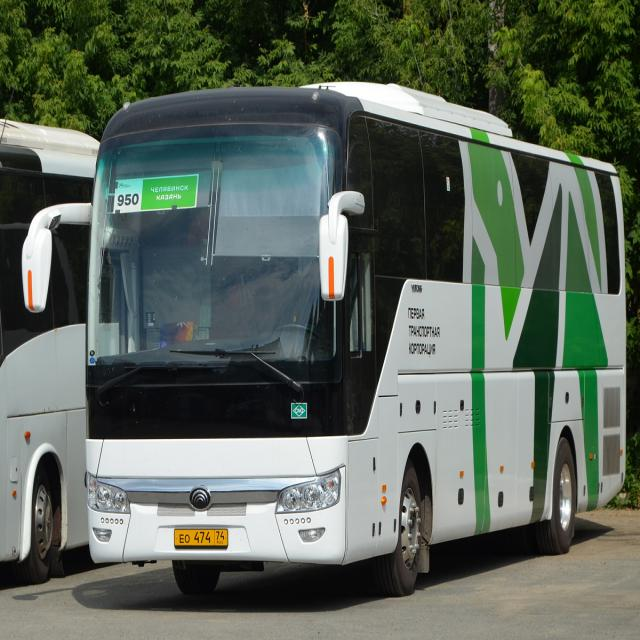number-of-bus: (117, 193, 141, 208)
